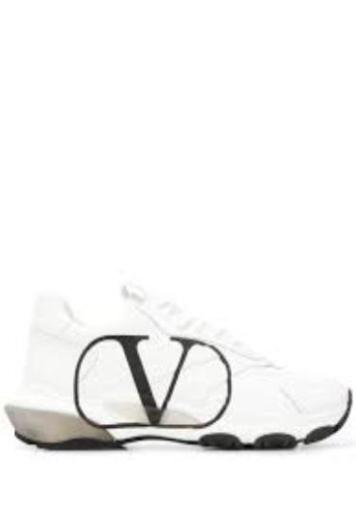VALENTINO: (58, 310, 282, 440)
